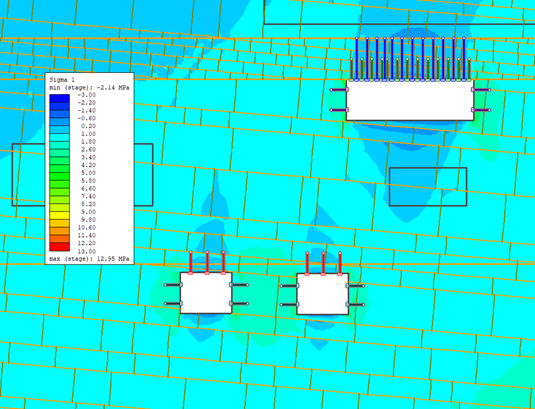crown: (382, 68, 435, 78), (195, 264, 219, 270), (316, 265, 335, 272)
label: (45, 72, 134, 263)
tunnel-opening: (347, 80, 474, 120), (179, 271, 232, 314), (297, 273, 348, 315)
